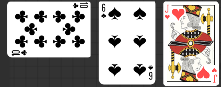10C: (11, 49, 29, 57), (72, 2, 89, 10)
6C: (147, 64, 155, 82)
